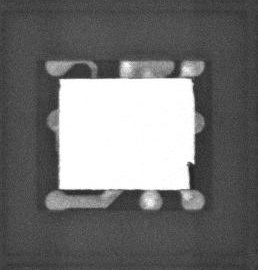DIE_BROKEN: (185, 160, 194, 189), (188, 77, 195, 99)
